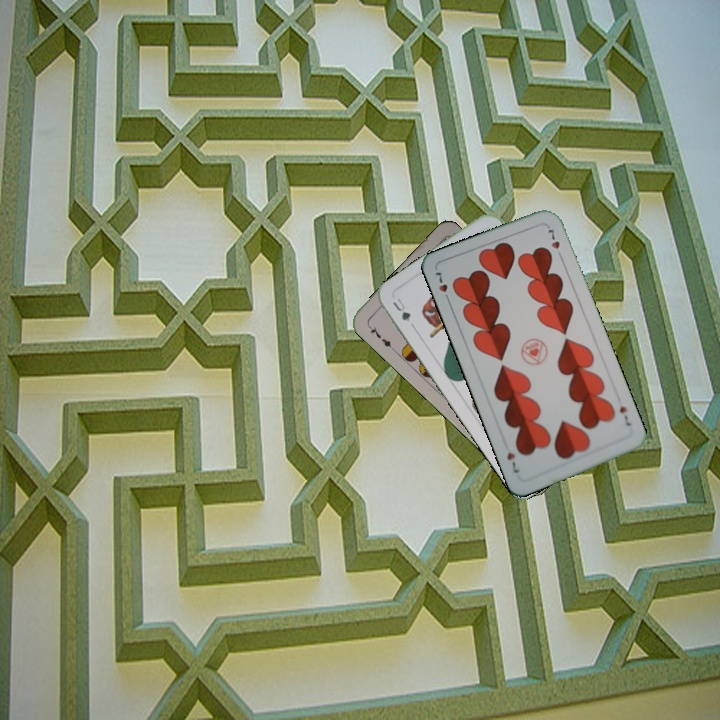E7: (364, 321, 397, 352)
GU: (388, 294, 413, 325)
H7: (431, 268, 453, 305), (615, 402, 634, 428)
